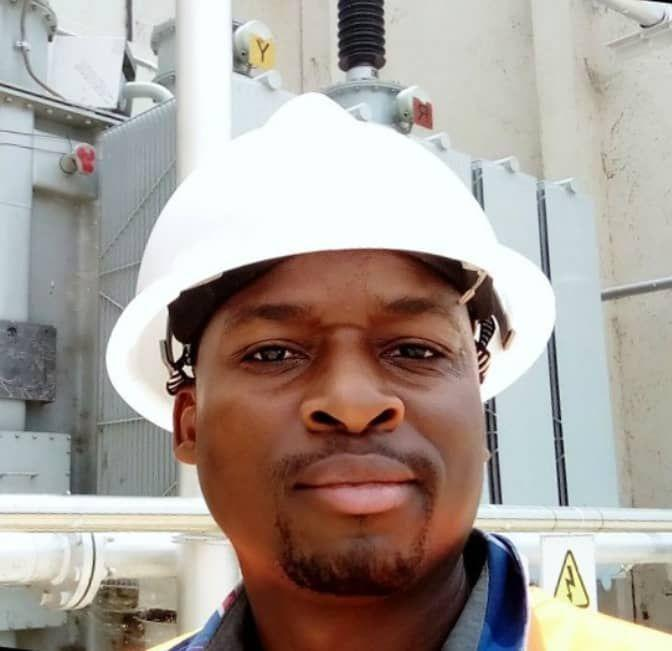helmet: (105, 91, 556, 431)
